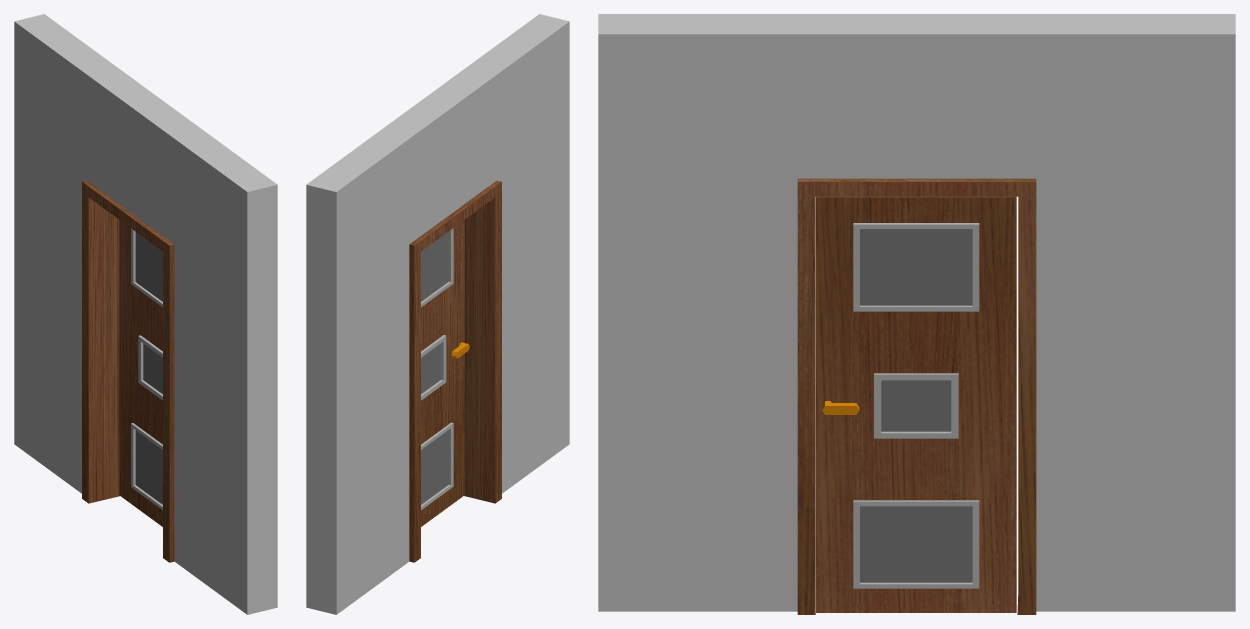
Rendered from PORTA INTERNA 2.fbx.
The picture shows the model from 3 angles, left to right: view 1: azimuth 30°, elevation 25°; view 2: azimuth 150°, elevation 25°; view 3: azimuth 270°, elevation 25°; orthographic projection. The views are drawn at different scales.
Parts seen in each view (by area): view 1: Cube, Cube.001, Cube.002; view 2: Cube, Cube.001, Cube.002; view 3: Cube, Cube.002, Cube.001.
Part boxes in pixels (x1,y1,x2,y2): Cube: [14, 14, 277, 614]; Cube.001: [82, 180, 174, 562]; Cube.002: [119, 220, 162, 526]; Cube: [306, 14, 569, 614]; Cube.001: [409, 180, 501, 562]; Cube.002: [421, 220, 469, 526]; Cube: [598, 14, 1235, 611]; Cube.002: [816, 196, 1016, 612]; Cube.001: [797, 178, 1036, 614].
Size of the model in its own units: 47.23 by 400 by 400.
